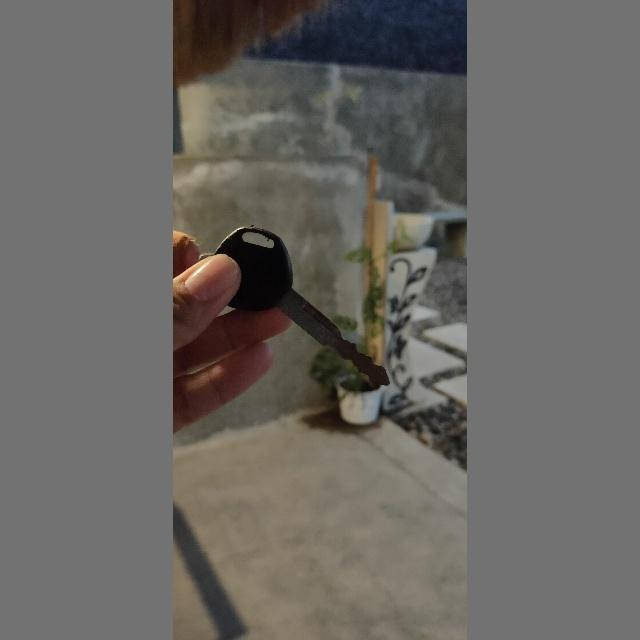Keys: (210, 220, 394, 392)
